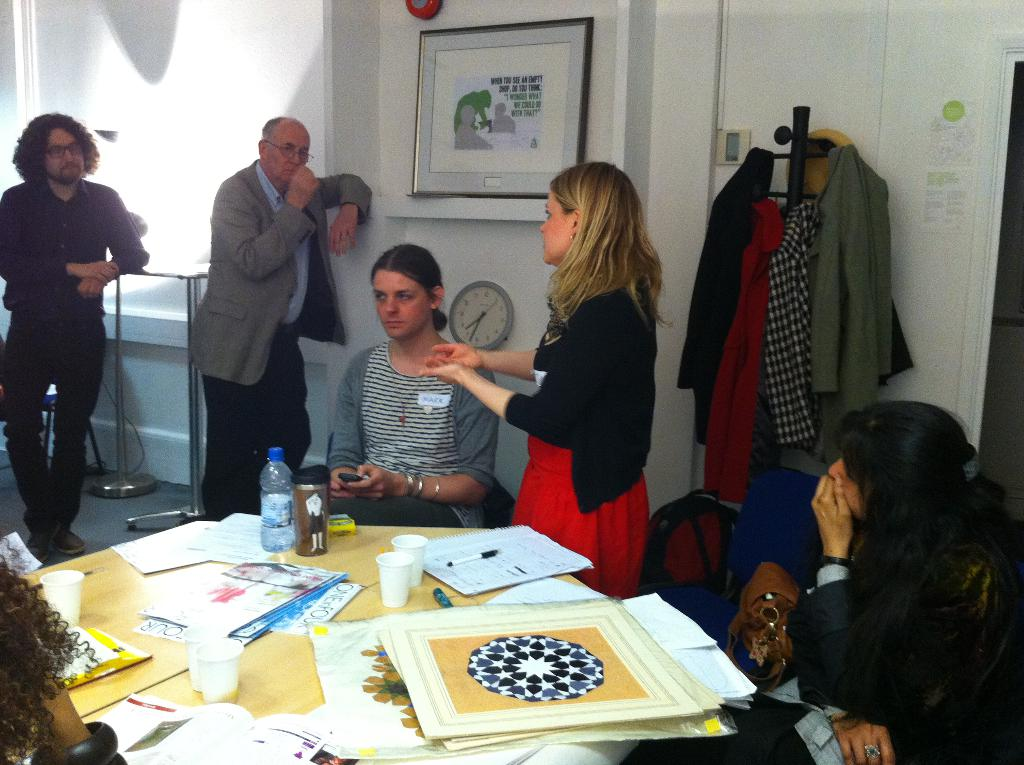Table: (0, 516, 639, 764)
